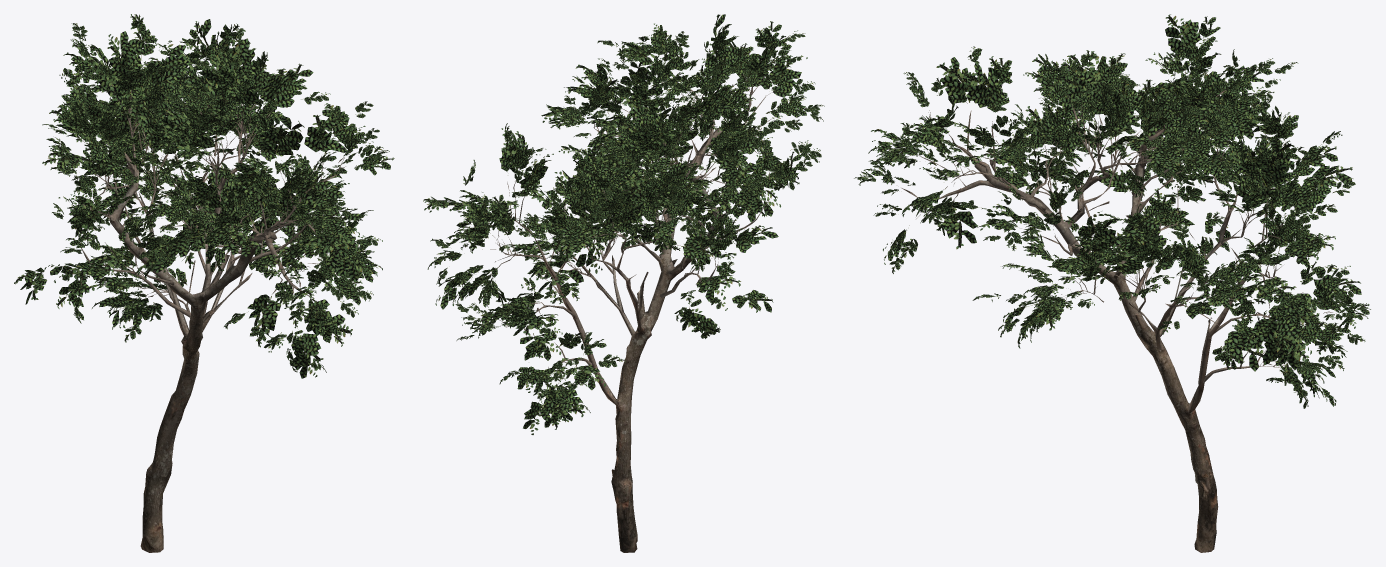
File: vancouver-street-tree.glb
3 views of the same model, side by side, from view 1: azimuth 30°, elevation 25°; view 2: azimuth 150°, elevation 25°; view 3: azimuth 270°, elevation 25° (orthographic). The views are drawn at different scales.
Parts seen in each view (by area): view 1: tree_small_02_LOD0; view 2: tree_small_02_LOD0; view 3: tree_small_02_LOD0.
Boxes of the visible parts, x1=… form: tree_small_02_LOD0: x1=14, y1=14, x2=394, y2=552; tree_small_02_LOD0: x1=423, y1=14, x2=824, y2=552; tree_small_02_LOD0: x1=854, y1=14, x2=1370, y2=552.
Bounding box in the file's own units: 2.92 × 4.56 × 4.29.
Materials: 3 (3 with a texture image).
